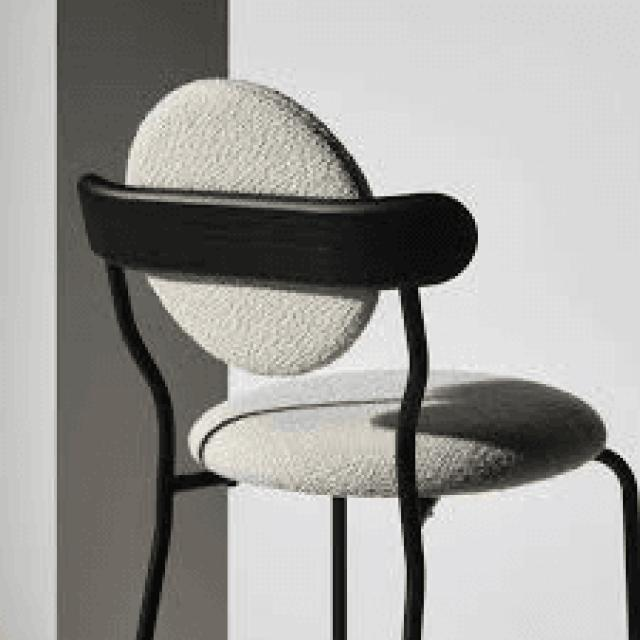chair: (69, 69, 640, 640), (121, 72, 610, 502)
